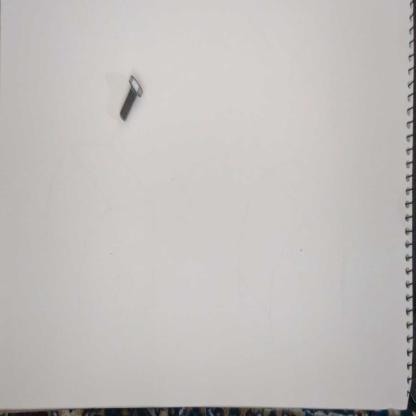Bolts: (117, 71, 147, 130)
